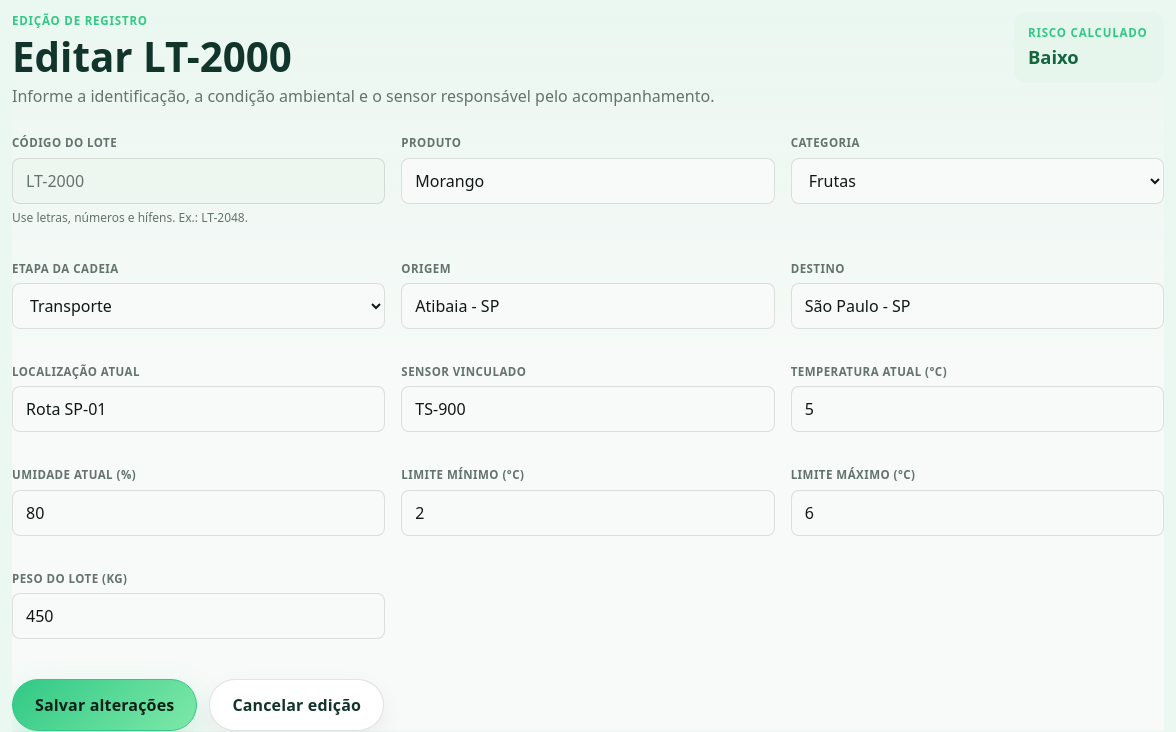
Test case: LotForm › exibe a validação quando um campo obrigatório é apagado
Clear the field labelled "Produto". click: [588, 181]
box: [401,158,775,204]
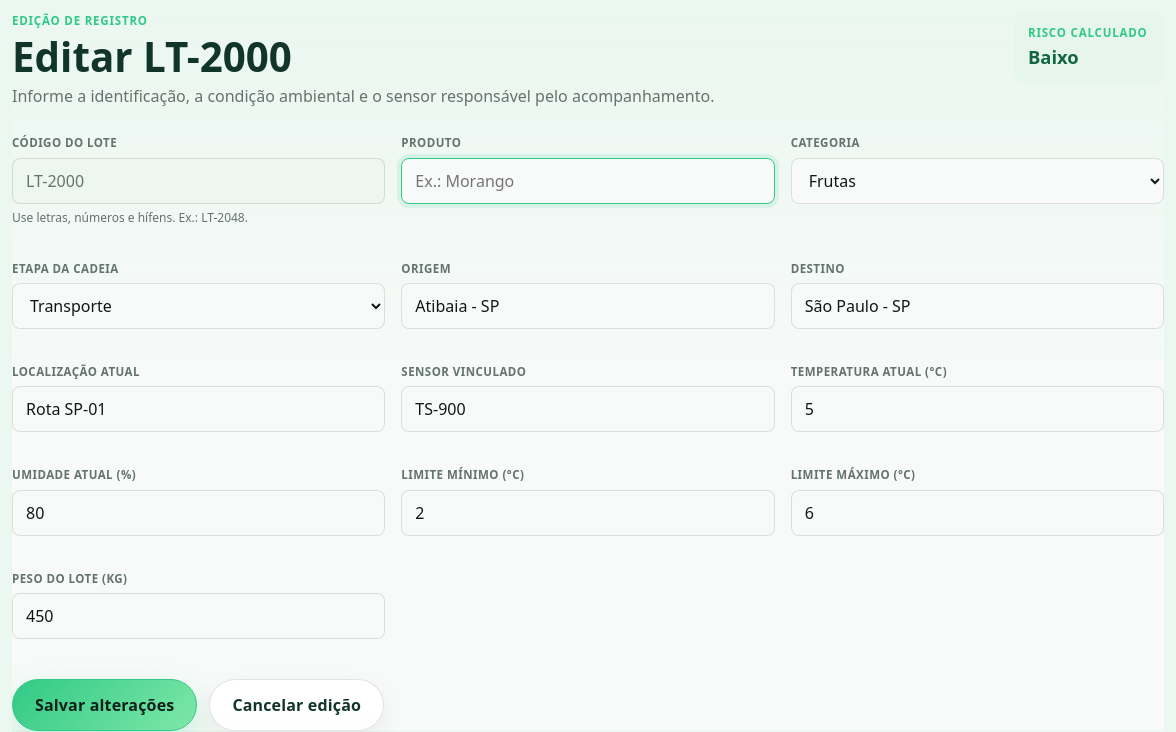
Click the button "Salvar alterações". click: [105, 705]
box: [12,679,197,731]
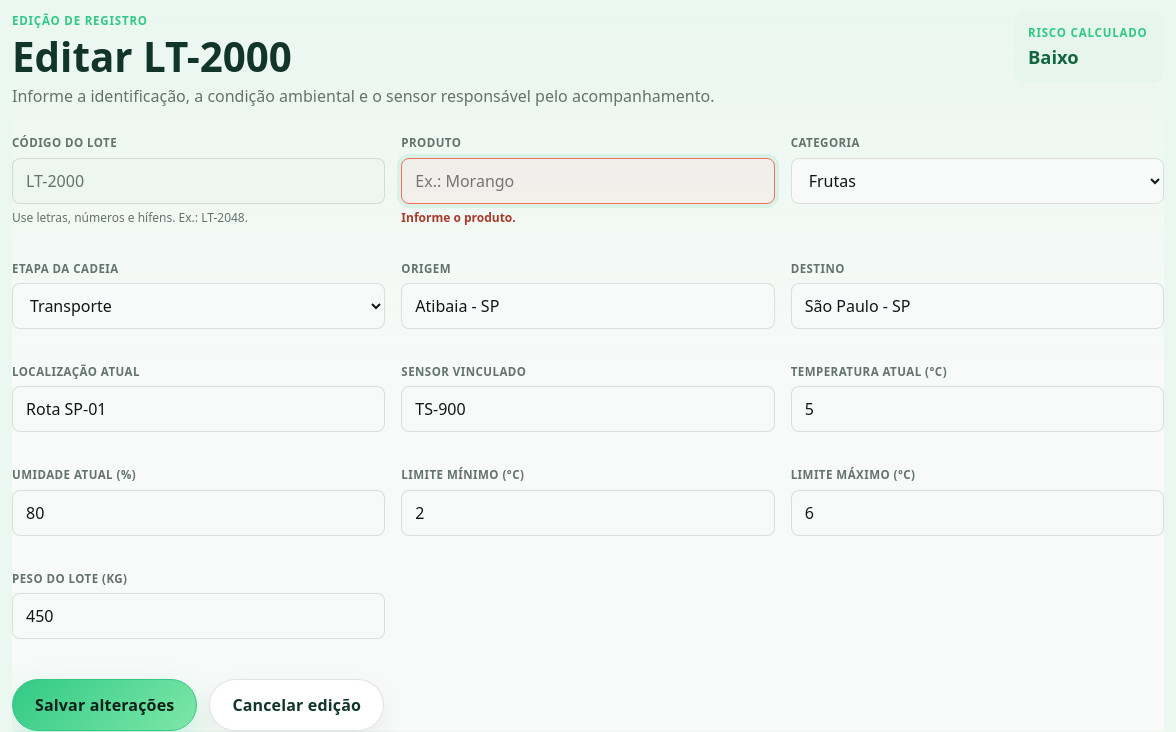
Check: the text "Informe o produto." is shown, box [401,209,516,226]
